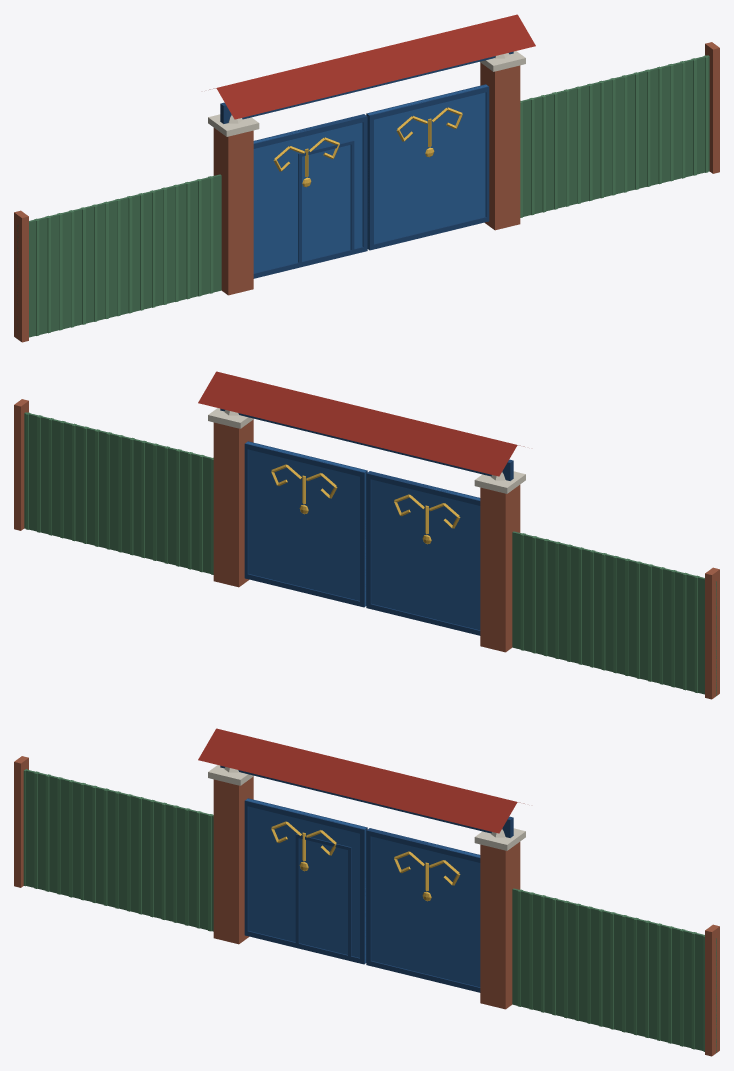
The model's file is KG_Darbaza.obj.
3 renders of one model, top to bottom at view 1: azimuth 30°, elevation 25°; view 2: azimuth 150°, elevation 25°; view 3: azimuth 330°, elevation 25°, orthographic.
Parts seen in each view (by area): view 1: KG_Darbaza; view 2: KG_Darbaza; view 3: KG_Darbaza.
Boxes of the visible parts, x1,y1,x2,y2 form: KG_Darbaza: [14, 14, 719, 342]; KG_Darbaza: [14, 371, 719, 699]; KG_Darbaza: [14, 728, 719, 1056].
Bounding box in the file's own units: 12.04 × 3.35 × 1.1.
